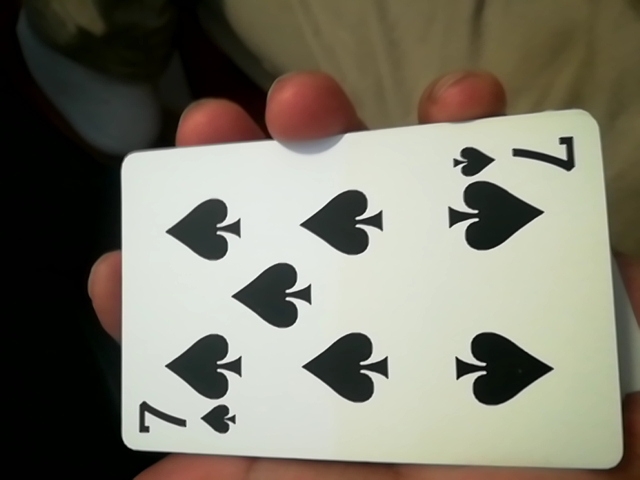ht 7: (100, 116, 619, 474)
